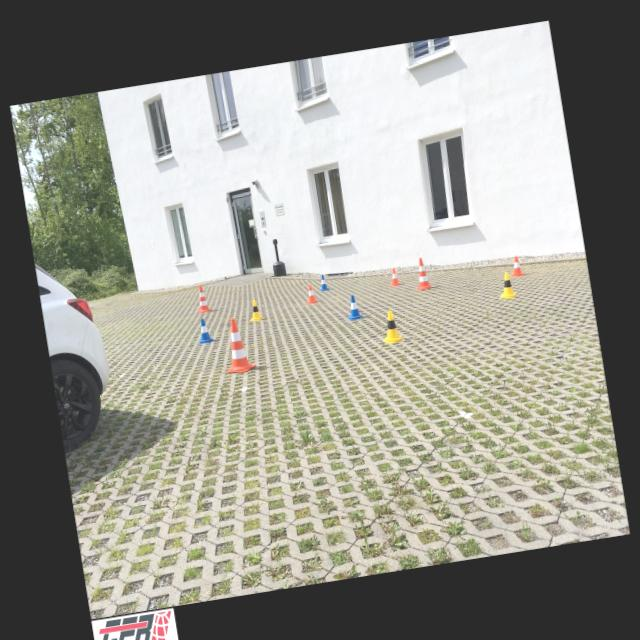blue_cone: (194, 316, 215, 344), (344, 294, 364, 320), (318, 274, 330, 291)
large_orange_cone: (220, 316, 256, 375), (412, 256, 434, 290), (194, 284, 211, 313)
orange_cone: (508, 255, 524, 277), (304, 283, 318, 304), (388, 268, 401, 286)
yellow_cone: (379, 309, 404, 345), (497, 272, 517, 300), (248, 298, 264, 322)
